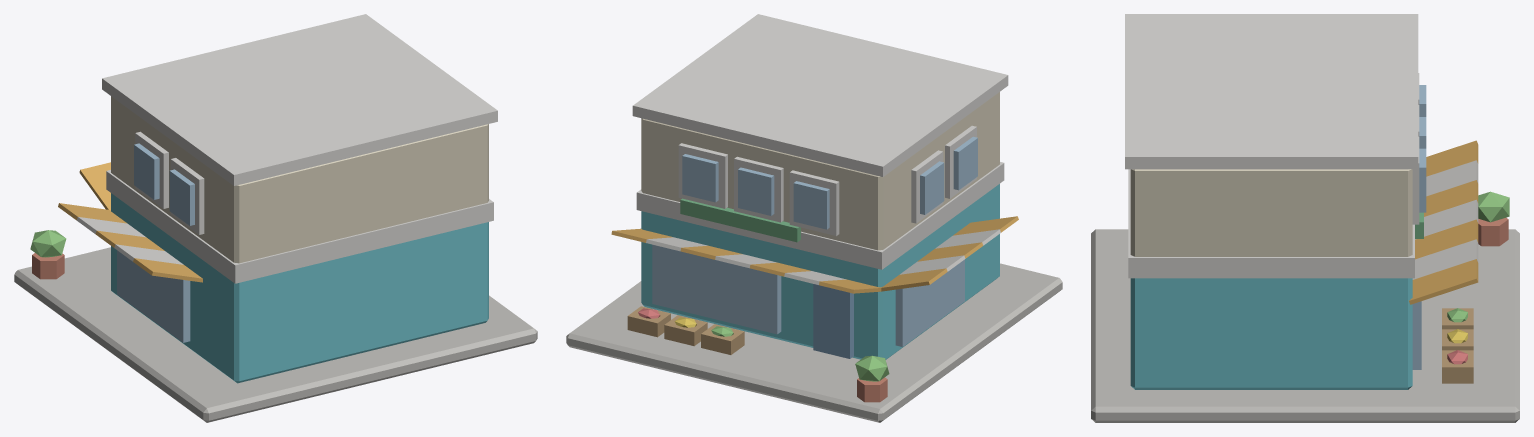
Rendered from comercial__loja_esquina.glb.
The picture shows the model from 3 angles, left to right: view 1: azimuth 30°, elevation 25°; view 2: azimuth 150°, elevation 25°; view 3: azimuth 270°, elevation 25°; orthographic projection. The views are drawn at different scales.
Visible parts, largest first — view 1: comercial__loja_esquina; view 2: comercial__loja_esquina; view 3: comercial__loja_esquina.
Part boxes in pixels (x1,y1,x2,y2): comercial__loja_esquina: (14, 14, 537, 422); comercial__loja_esquina: (566, 14, 1062, 422); comercial__loja_esquina: (1091, 14, 1519, 422).
Bounding box in the file's own units: 1.92 × 1.24 × 1.9.
